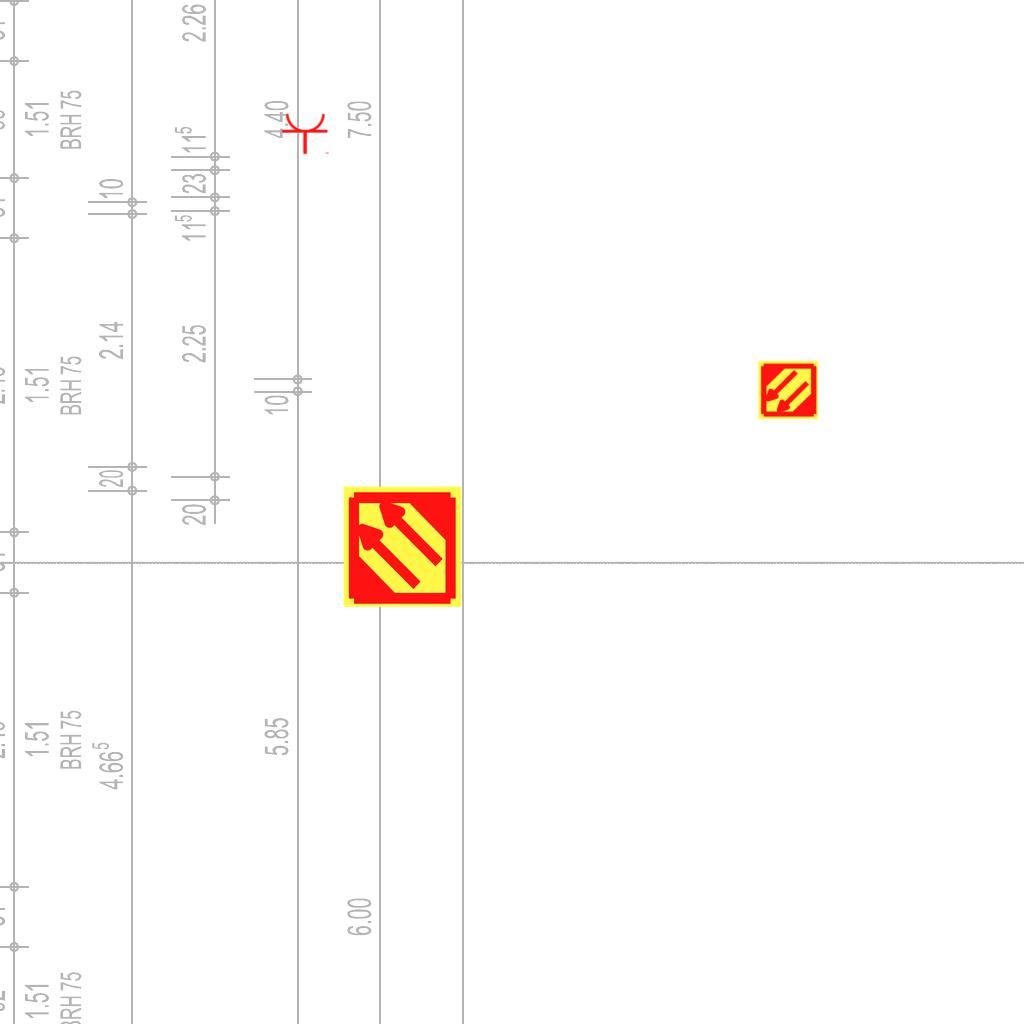ASR_Ansaugrauchmelder: (340, 484, 465, 609), (757, 359, 819, 421)
Schukosteckdose_einfach: (281, 112, 331, 155)
